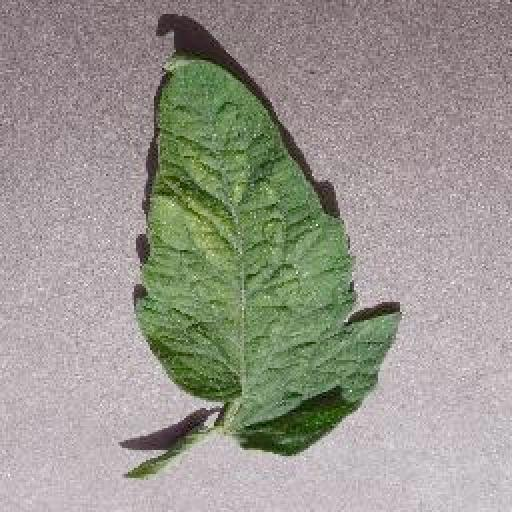disease_tomato: (130, 54, 402, 456)
